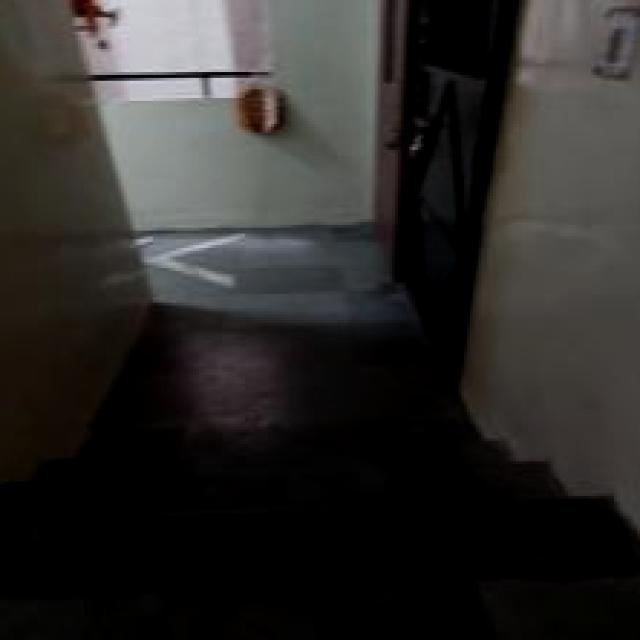downstair: (59, 393, 434, 586)
